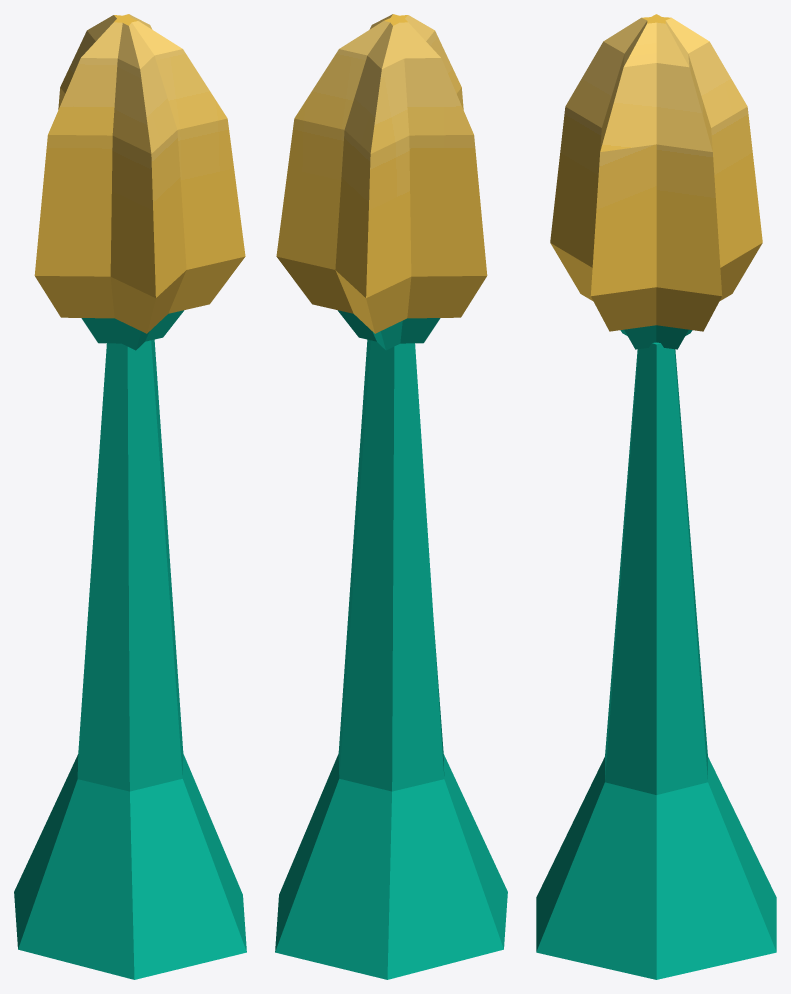
3 renders of one model, left to right at view 1: azimuth 30°, elevation 25°; view 2: azimuth 150°, elevation 25°; view 3: azimuth 270°, elevation 25°, orthographic.
Parts seen in each view (by area): view 1: SF1; view 2: SF1; view 3: SF1.
Part boxes in pixels (x1,y1,x2,y2): SF1: [14, 14, 246, 979]; SF1: [275, 14, 507, 979]; SF1: [536, 14, 776, 979].
Bounding box in the file's own units: 9.43 × 36.23 × 8.75.
1 material, 1 textured.
